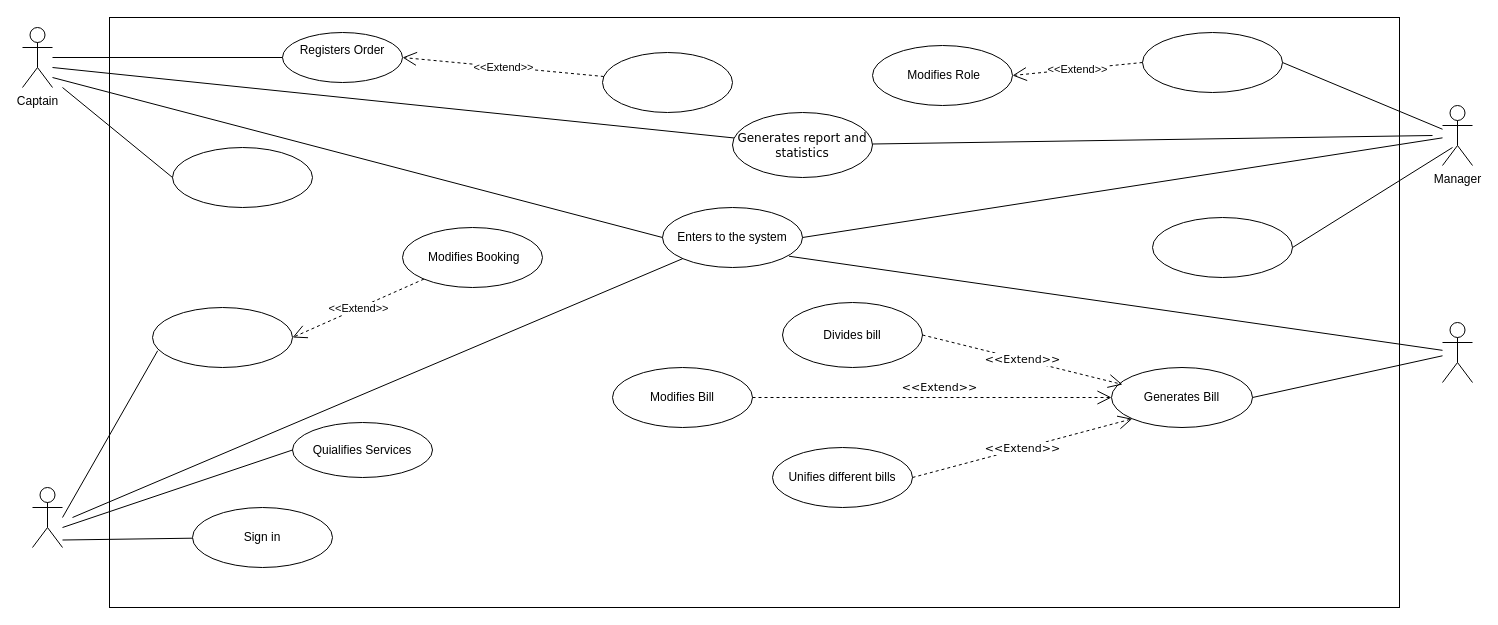
Some shapes in this 1498 by 625 pixel diagram are drawn without their labels. The shapes that lost their labels are listed below. From the top down, each one's box as (x1, y1, x2, y2) in pixels, then its label:
(602, 52, 732, 112): Modifies Orders
(1142, 32, 1282, 92): Assigns role
(172, 146, 312, 208): Qualifies staff in charge
(1152, 216, 1292, 278): Registers staff
(152, 306, 292, 368): Books a table
(1442, 322, 1472, 382): Cashier
(32, 486, 62, 548): Customer
